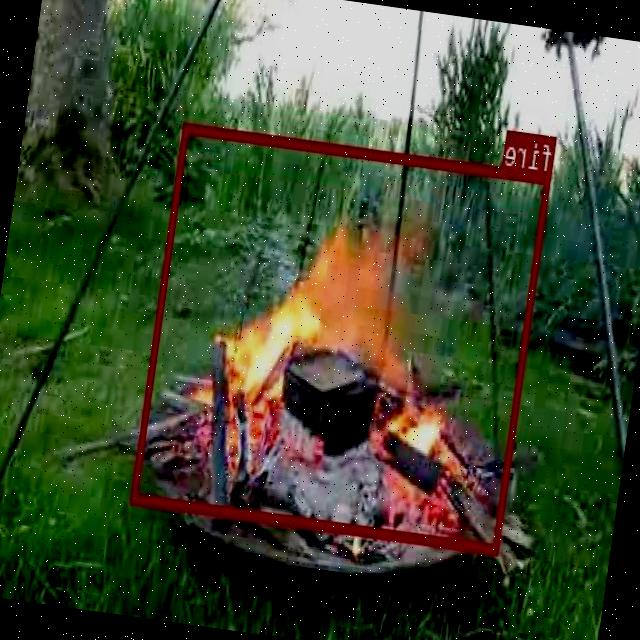fire: (132, 121, 552, 554)
